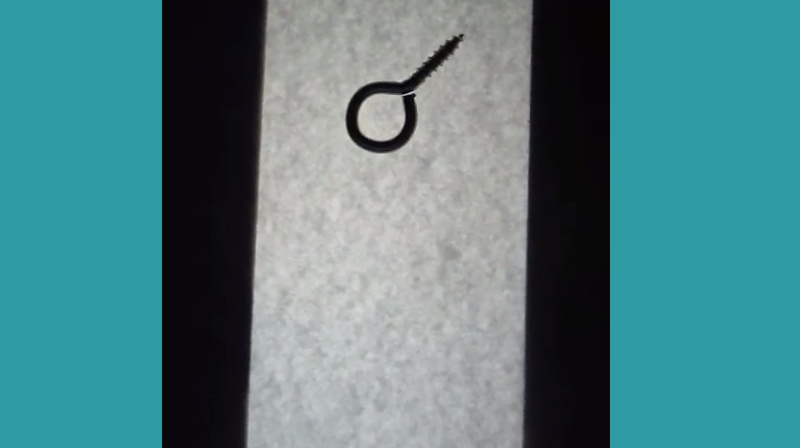O001: (341, 29, 465, 159)
